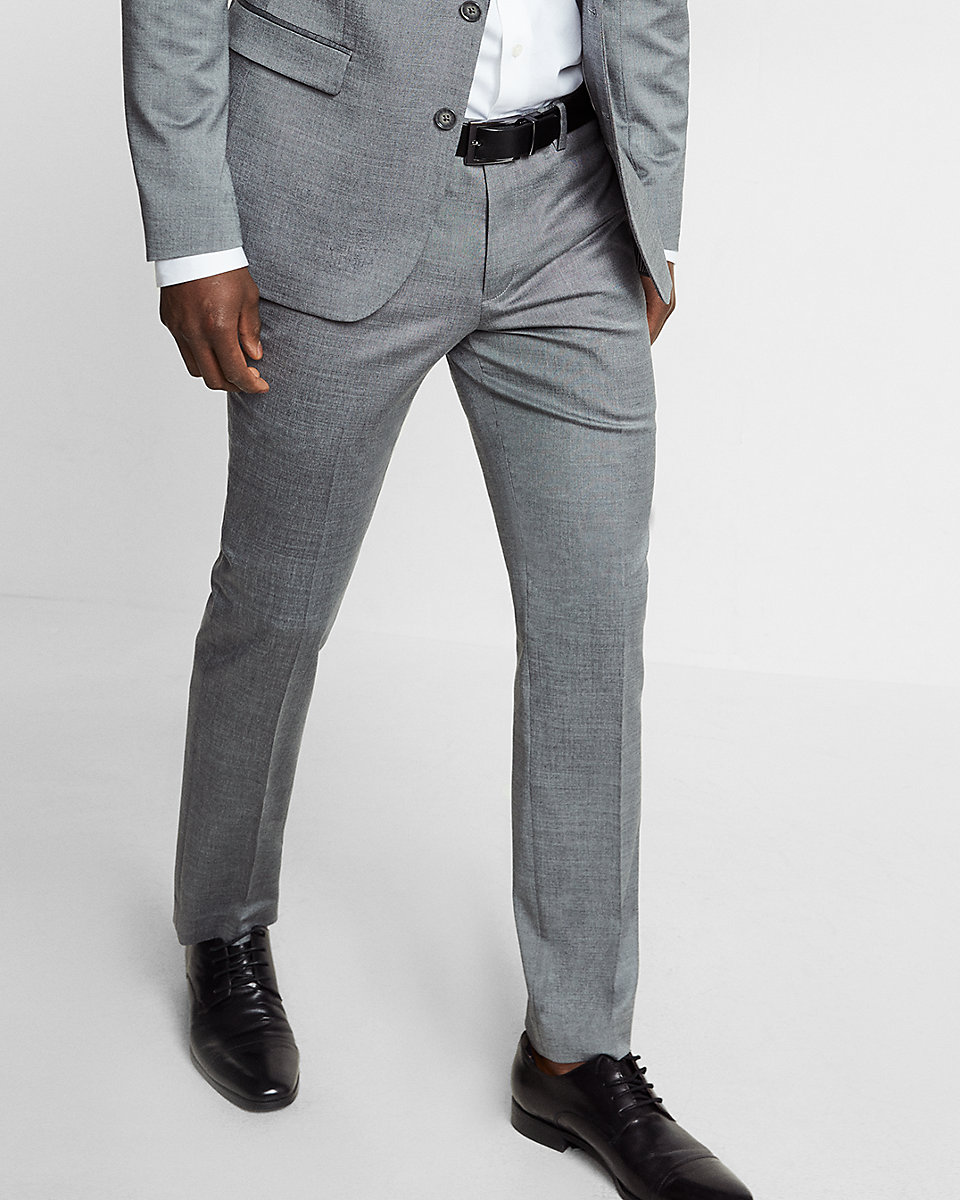feet: (136, 814, 781, 1200)
